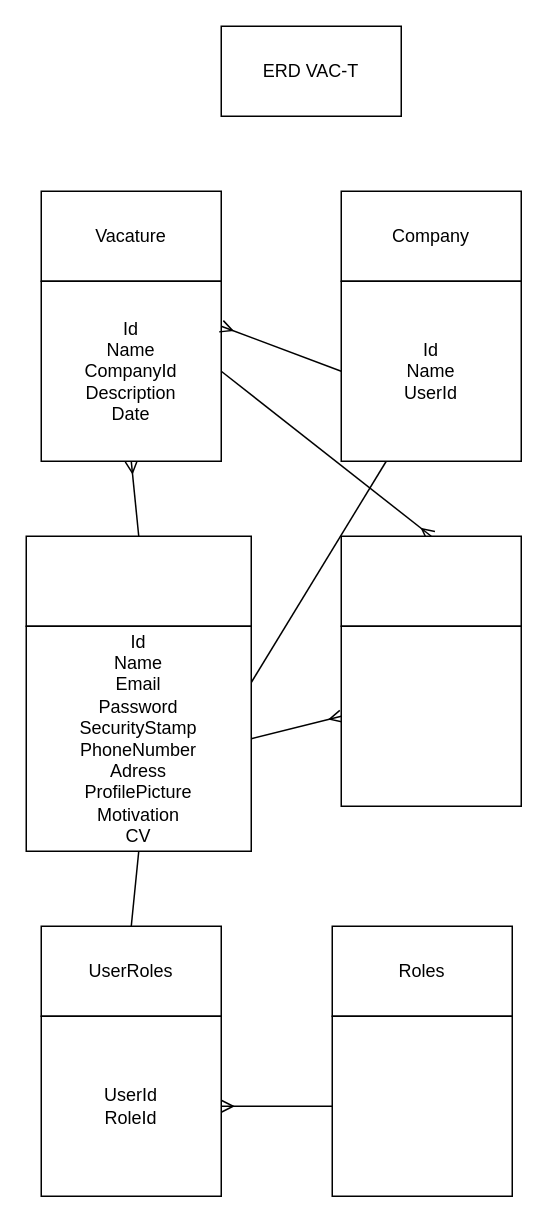
Image size: 548x1223. Some labels were removed from this diagram. Here are the shapes that lost their labels. From the top down, the centre of each, then its label:
point (138, 580): User
point (430, 580): Sollicitations
point (430, 715): Id UserId VacatureId Selected Date
point (421, 1105): Id Name ConcurrencyStamp
